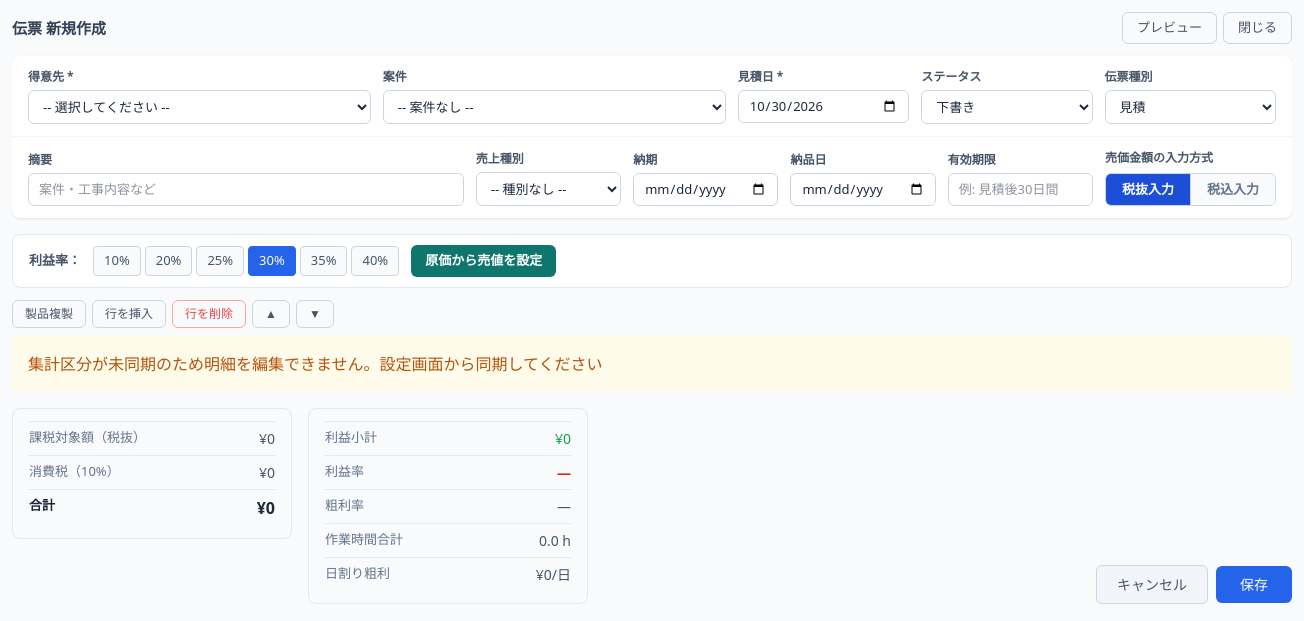
VoucherEdit R-0148 案件選択時の得意先デフォルト設定 › 新規伝票作成中、得意先未選択で案件を選ぶと得意先が自動設定される
Expected: the dropdown named "customer_id" below "得意先 *" shows "-- 選択してください --", [28,90,371,124]
Select "案件A" in the dropdown named "project_id" below "案件" at (554, 106), box [383,90,726,124]
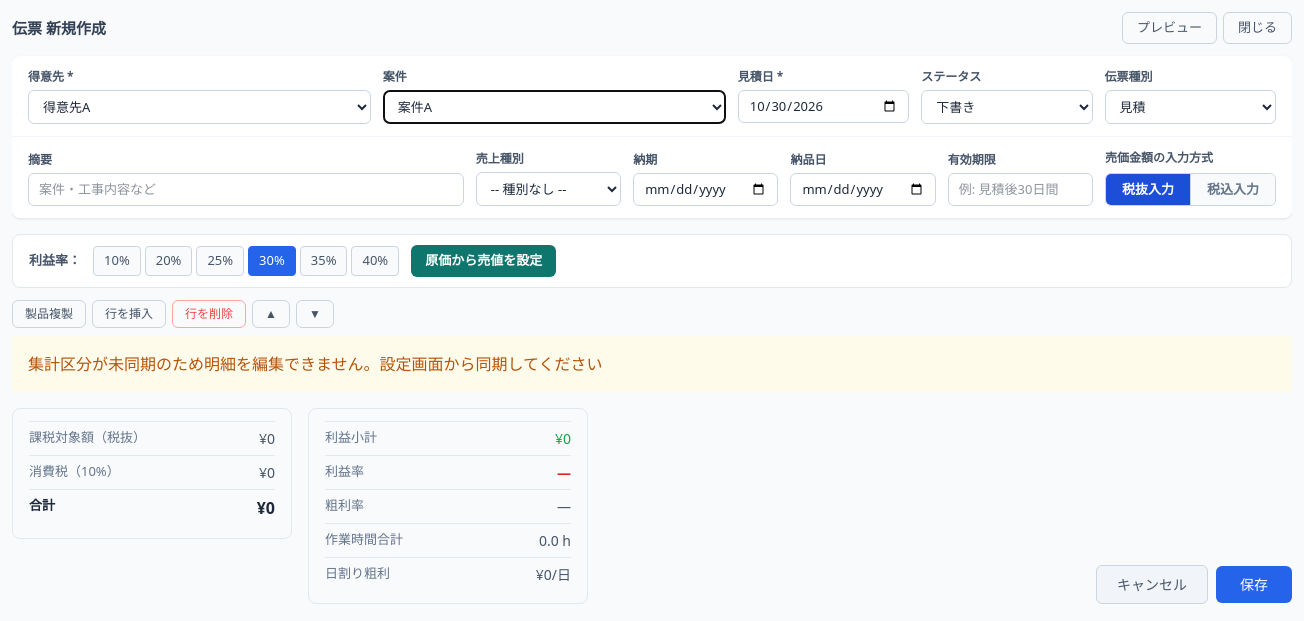
Expected: the dropdown named "customer_id" below "得意先 *" shows "得意先A", [28,90,371,124]
